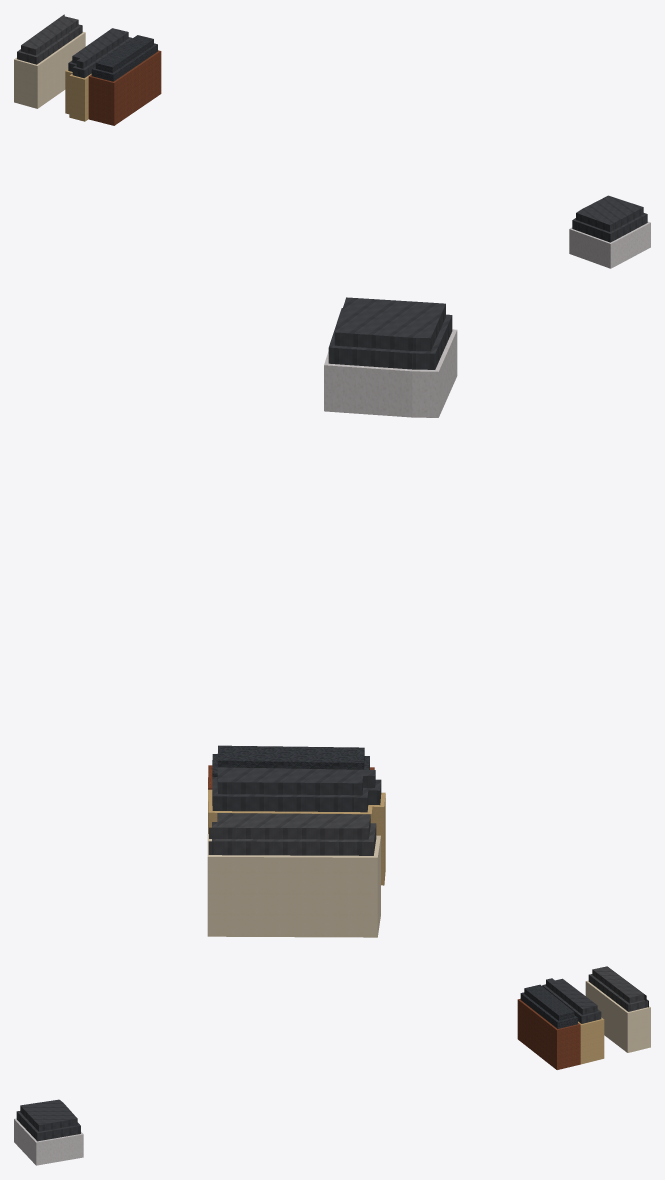
3 views of the same model, one above another, from view 1: azimuth 30°, elevation 25°; view 2: azimuth 150°, elevation 25°; view 3: azimuth 270°, elevation 25° (orthographic). The views are drawn at different scales.
Parts seen in each view (by area): view 1: lmbase_501637652, lmbase_501637650, lmbase_503713425, lmbase_503713425_roof_b, lmbase_501637651, lmbase_501637650_roof_b, lmbase_501637651_roof_b, lmbase_501637652_roof_b, lmbase_503713425_roof_a, lmbase_501637650_roof_a, lmbase_501637652_roof_a, lmbase_501637651_roof_a; view 2: lmbase_501637650, lmbase_503713425, lmbase_503713425_roof_b, lmbase_501637651_roof_b, lmbase_501637650_roof_b, lmbase_501637652_roof_b, lmbase_501637651_roof_a, lmbase_501637650_roof_a, lmbase_503713425_roof_a, lmbase_501637651; view 3: lmbase_501637652, lmbase_501637650, lmbase_503713425, lmbase_503713425_roof_b, lmbase_501637651, lmbase_501637650_roof_b, lmbase_501637651_roof_b, lmbase_501637652_roof_b, lmbase_503713425_roof_a, lmbase_501637650_roof_a, lmbase_501637652_roof_a, lmbase_501637651_roof_a.
Boxes of the visible parts, x1,y1,x2,y2 form: lmbase_501637652: (88,50,161,125); lmbase_501637650: (14,32,85,108); lmbase_503713425: (569,221,650,268); lmbase_503713425_roof_b: (576,195,643,231); lmbase_501637651: (65,69,91,121); lmbase_501637650_roof_b: (21,14,78,55); lmbase_501637651_roof_b: (72,28,128,68); lmbase_501637652_roof_b: (95,35,153,72); lmbase_503713425_roof_a: (572,213,647,242); lmbase_501637650_roof_a: (17,24,82,64); lmbase_501637652_roof_a: (91,43,157,81); lmbase_501637651_roof_a: (68,37,132,78); lmbase_501637650: (207,834,380,937); lmbase_503713425: (324,329,457,417); lmbase_503713425_roof_b: (334,297,445,351); lmbase_501637651_roof_b: (217,767,375,795); lmbase_501637650_roof_b: (209,813,370,839); lmbase_501637652_roof_b: (217,745,364,769); lmbase_501637651_roof_a: (212,777,381,812); lmbase_501637650_roof_a: (208,822,376,855); lmbase_503713425_roof_a: (328,308,452,369); lmbase_501637651: (208,789,385,885); lmbase_501637652: (517,998,580,1069); lmbase_501637650: (585,980,650,1052); lmbase_503713425: (14,1118,83,1165); lmbase_503713425_roof_b: (20,1099,77,1131); lmbase_501637651: (578,1017,604,1064); lmbase_501637650_roof_b: (592,966,646,1003); lmbase_501637651_roof_b: (546,978,597,1014); lmbase_501637652_roof_b: (524,984,574,1020); lmbase_503713425_roof_a: (16,1111,80,1141); lmbase_501637650_roof_a: (588,974,648,1011); lmbase_501637652_roof_a: (520,992,577,1028); lmbase_501637651_roof_a: (542,984,601,1023).
Size of the model in its own units: 91.58 by 15 by 165.
7 materials, 7 textured.
